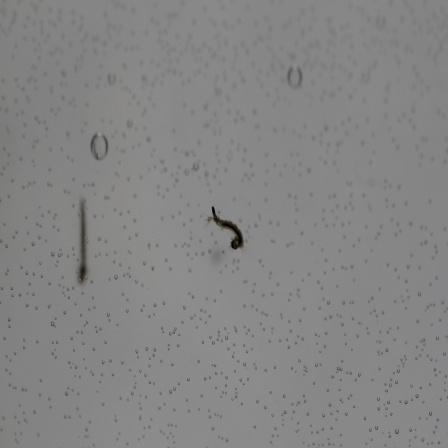Jentik-Nyamuk: (208, 203, 248, 253), (74, 190, 92, 288)
